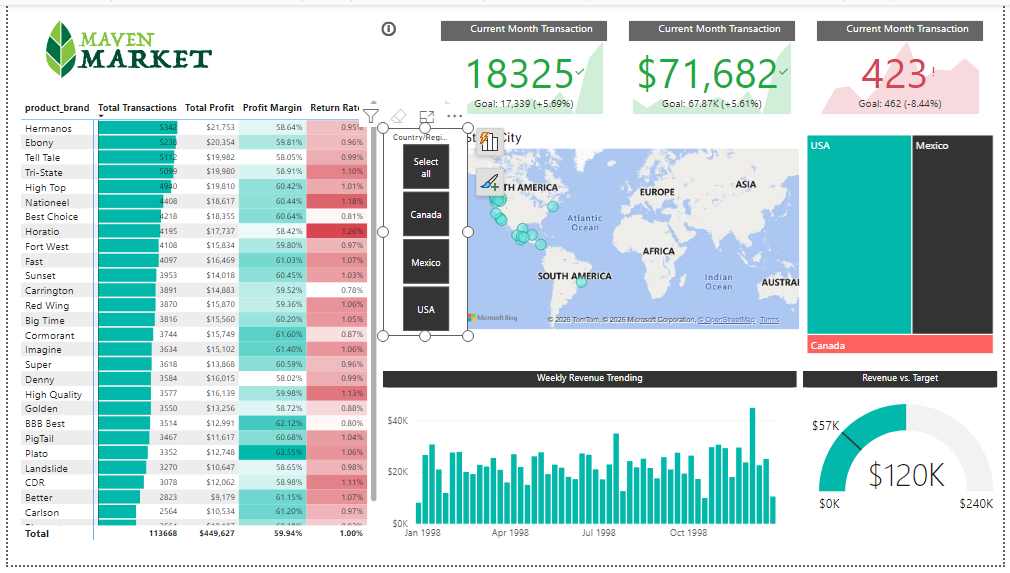

The page's visual inventory and layout, read from the dashboard file:
{"tool":"powerbi","page":{"name":"Topline Performance","canvas":[1280,720],"ordinal":0},"visuals":[{"type":"image","box":[7,9,296,95],"z":0},{"type":"pivotTable","fields":{"Rows":["Products.product_brand"],"Values":["Transactions_Data.Total Transactions","Transactions_Data.Total Profit","Transactions_Data.Profit Margin","Return_Data.Return Rate"]},"box":[7.1,113.2,476,583.8],"z":1000},{"type":"kpi","title":"Current Month Transaction","fields":{"TrendLine":["Calendar.Start of Month"],"Indicator":["Transactions_Data.Total Transactions"],"Goal":["Transactions_Data.Last Month Transactions"]},"box":[546,10,234,145],"z":2000},{"type":"kpi","title":"Current Month Transaction","fields":{"TrendLine":["Calendar.Start of Month"],"Indicator":["Return_Data.Total Returns"],"Goal":["Transactions_Data.Last Month Return"]},"box":[1030,10,234,145],"z":3000},{"type":"kpi","title":"Current Month Transaction","fields":{"TrendLine":["Calendar.Start of Month"],"Indicator":["Transactions_Data.Total Profit"],"Goal":["Transactions_Data.Last Month Profit"]},"box":[788,10,234,145],"z":4000},{"type":"slicer","fields":{"Values":["Stores.Country/Region"]},"box":[482.6,157.7,108.6,268],"z":5000},{"type":"map","fields":{"Category":["Stores.Store City"]},"box":[581.6,160.4,440.5,260.9],"z":6000},{"type":"treemap","fields":{"Values":["Transactions_Data.Total Transactions"],"Group":["Stores.Country/Region","Stores.State or Province","Stores.Store City"]},"box":[1022.2,161.4,249.7,291.3],"z":7000},{"type":"columnChart","title":"Weekly Revenue Trending","fields":{"Y":["Transactions_Data.Total Revenue"],"Category":["Calendar.Start of Week"]},"box":[482.2,471,531.9,226.4],"z":8000},{"type":"gauge","title":"Revenue vs. Target","fields":{"Y":["Transactions_Data.Total Revenue"],"TargetValue":["Transactions_Data.Revenue Target"]},"box":[1022.2,471,249.7,212.1],"z":8001},{"type":"actionButton","box":[468.3,10.1,49.6,40.4],"z":8003}]}

Visuals, with their boxes in screenshot pixels (x1, y1, x2, y2), scaled from the page's 1280x720 canvas onto the 1010x573 screenshot:
image: [left=6, top=7, right=239, bottom=83]
pivotTable - Products.product_brand x Transactions_Data.Total Transactions: [left=6, top=90, right=381, bottom=555]
"Current Month Transaction" kpi: [left=431, top=8, right=615, bottom=123]
"Current Month Transaction" kpi: [left=813, top=8, right=997, bottom=123]
"Current Month Transaction" kpi: [left=622, top=8, right=806, bottom=123]
slicer - Stores.Country/Region: [left=381, top=126, right=466, bottom=339]
map - Stores.Store City: [left=459, top=128, right=807, bottom=335]
treemap - Transactions_Data.Total Transactions x Stores.Country/Region: [left=807, top=128, right=1004, bottom=360]
"Weekly Revenue Trending" columnChart: [left=380, top=375, right=800, bottom=555]
"Revenue vs. Target" gauge: [left=807, top=375, right=1004, bottom=544]
actionButton: [left=370, top=8, right=409, bottom=40]
